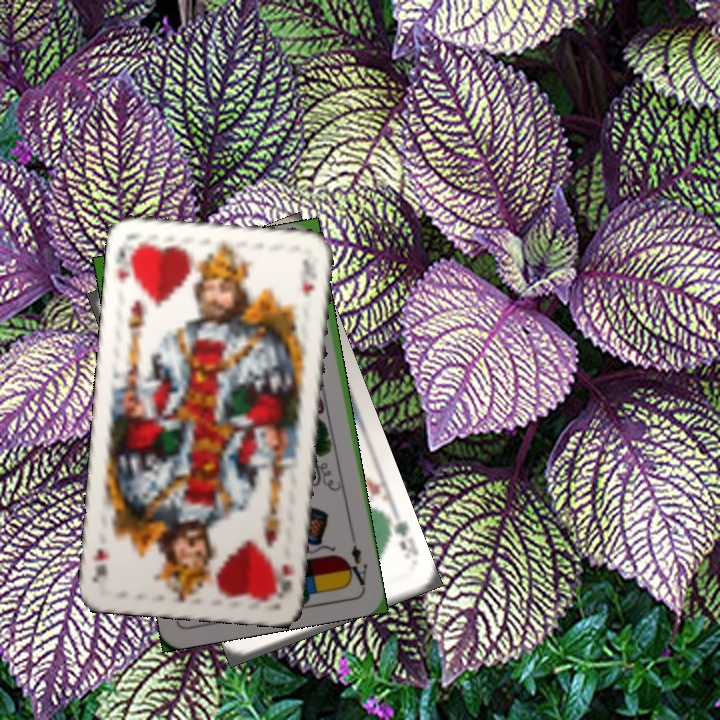EA: (342, 531, 370, 588)
GK: (384, 514, 422, 559)
HK: (111, 237, 140, 288), (271, 561, 296, 596)
